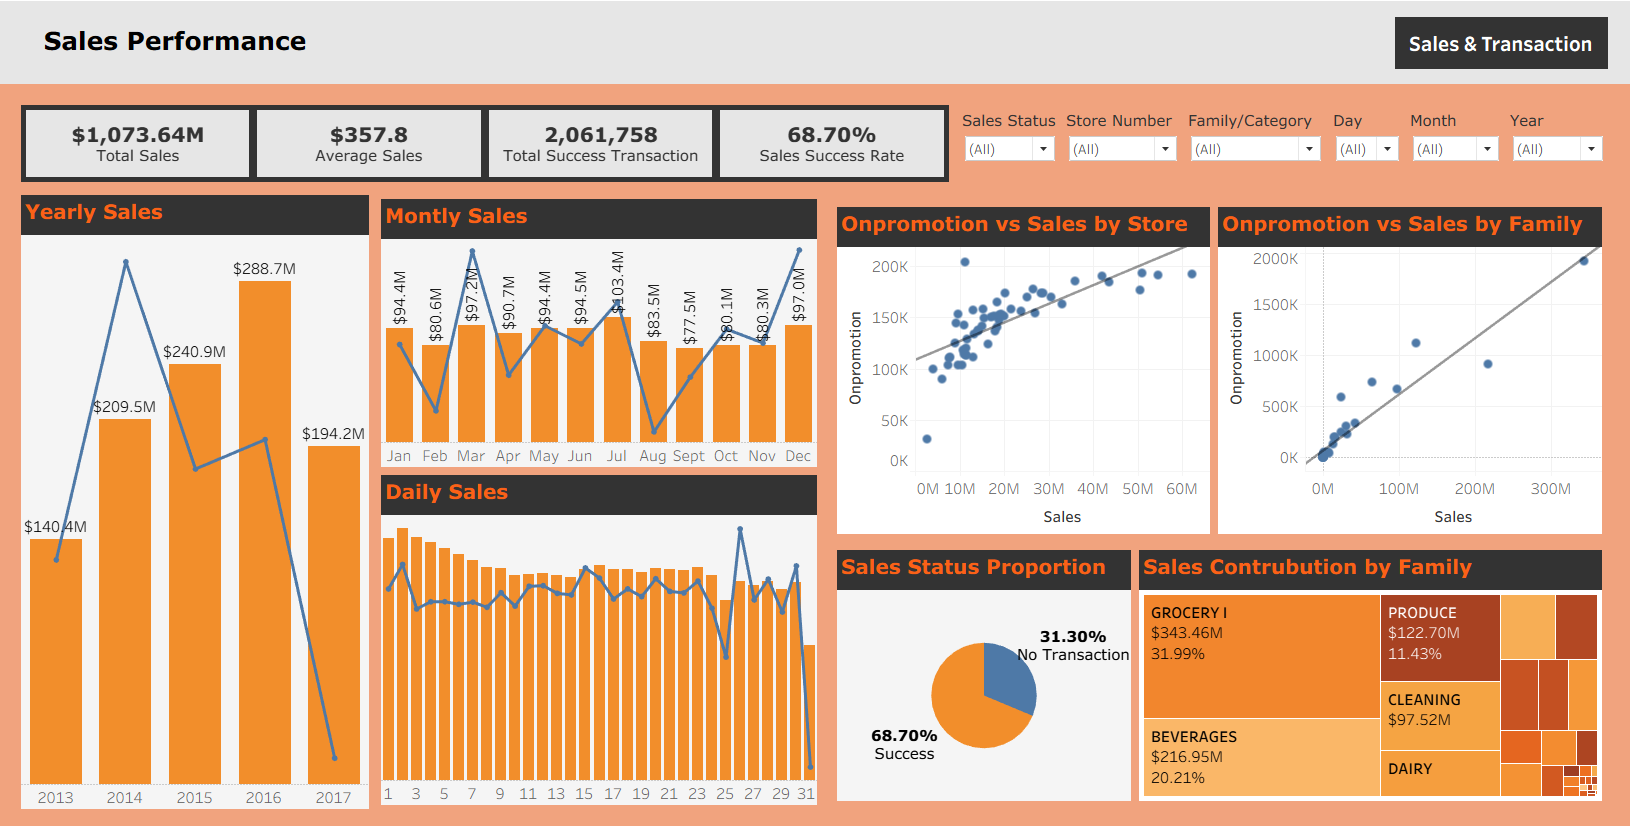

The dashboard page shown, as its layout file describes it:
{"tool":"tableau","page":{"name":"Sales Performance","canvas":[1000,1000],"units":"permille","ordinal":1},"visuals":[{"type":"blank","box":[4.8,9.4,990.3,981.2]},{"type":"text","box":[23.5,29.4,181.1,61.1]},{"type":"dashboard-object","box":[850.3,32.9,128.6,61.1]},{"type":"blank","box":[7.9,111.6,984.9,873.1]},{"type":"worksheet","title":"total sales","mark":"Automatic","box":[21.7,137.5,139.7,88.1]},{"type":"worksheet","title":"avg. sales","mark":"Automatic","box":[161.4,137.5,139.7,88.1]},{"type":"worksheet","title":"Total Success Transaction","mark":"Automatic","box":[301.1,137.5,139.7,88.1]},{"type":"worksheet","title":"Sales Success Rate","mark":"Automatic","box":[440.9,137.5,139.7,88.1]},{"type":"filter","title":"Sales Status Proportion","param":"[federated.0tv7pys114wf2u1bouao909ua7hu].[none:Calculation_2984917307895813:nk]","box":[586.6,138.7,63.1,83.4]},{"type":"filter","title":"Sales Status Proportion","param":"[federated.0tv7pys114wf2u1bouao909ua7hu].[none:store_nbr:ok]","box":[649.7,138.7,73.6,83.4]},{"type":"filter","title":"Sales Status Proportion","param":"[federated.0tv7pys114wf2u1bouao909ua7hu].[none:family:nk]","box":[723.3,138.7,86.9,83.4]},{"type":"filter","title":"Sales Status Proportion","param":"[federated.0tv7pys114wf2u1bouao909ua7hu].[dy:date:ok]","box":[810.2,138.7,46.5,83.4]},{"type":"filter","title":"Sales Status Proportion","param":"[federated.0tv7pys114wf2u1bouao909ua7hu].[mn:date:ok]","box":[856.7,138.7,60.4,83.4]},{"type":"filter","title":"Sales Status Proportion","param":"[federated.0tv7pys114wf2u1bouao909ua7hu].[yr:date:ok]","box":[917,138.7,63.1,83.4]},{"type":"worksheet","title":"Yearly Sales","mark":"Bar","rows":["Calculation_2984917291237376","Calculation_2984917291237376"],"cols":["date"],"box":[18.7,242.1,214.8,726.2]},{"type":"worksheet","title":"Montly Sales","mark":"Bar","rows":["Calculation_2984917291237376","Calculation_2984917291237376"],"cols":["date"],"box":[236,246.8,268,319.6]},{"type":"worksheet","title":"Onpromotion vs Sales by Store","mark":"Circle","rows":["onpromotion"],"cols":["sales"],"box":[511.2,251.5,229.9,393.7]},{"type":"worksheet","title":"Onpromotion vs Sales by Family","mark":"Circle","rows":["onpromotion"],"cols":["sales"],"box":[741.1,251.5,236.6,393.7]},{"type":"worksheet","title":"Daily Sales","mark":"Bar","rows":["Calculation_2984917291237376","Calculation_2984917291237376"],"cols":["date"],"box":[236,566.4,268,397.2]},{"type":"worksheet","title":"Sales Status Proportion","mark":"Pie","box":[511.2,654.5,182.3,304.4]},{"type":"worksheet","title":"Sales Contrubution by Family","mark":"Automatic","box":[693.4,654.5,284.3,304.4]}]}

Visuals, with their boxes on the dashboard's canvas, which has no fixed pixel size, in thousandths of its width and height (x1, y1, x2, y2). These are canvas units, not pixel positions in the 1630x826 screenshot, which may show the page scaled, cropped or inside an application window:
blank: [5, 9, 995, 991]
text: [24, 29, 205, 90]
dashboard-object: [850, 33, 979, 94]
blank: [8, 112, 993, 985]
"total sales" worksheet: [22, 138, 161, 226]
"avg. sales" worksheet: [161, 138, 301, 226]
"Total Success Transaction" worksheet: [301, 138, 441, 226]
"Sales Success Rate" worksheet: [441, 138, 581, 226]
"Sales Status Proportion" filter: [587, 139, 650, 222]
"Sales Status Proportion" filter: [650, 139, 723, 222]
"Sales Status Proportion" filter: [723, 139, 810, 222]
"Sales Status Proportion" filter: [810, 139, 857, 222]
"Sales Status Proportion" filter: [857, 139, 917, 222]
"Sales Status Proportion" filter: [917, 139, 980, 222]
"Yearly Sales" worksheet (Bar marks): [19, 242, 234, 968]
"Montly Sales" worksheet (Bar marks): [236, 247, 504, 566]
"Onpromotion vs Sales by Store" worksheet (Circle marks): [511, 252, 741, 645]
"Onpromotion vs Sales by Family" worksheet (Circle marks): [741, 252, 978, 645]
"Daily Sales" worksheet (Bar marks): [236, 566, 504, 964]
"Sales Status Proportion" worksheet (Pie marks): [511, 654, 694, 959]
"Sales Contrubution by Family" worksheet: [693, 654, 978, 959]
